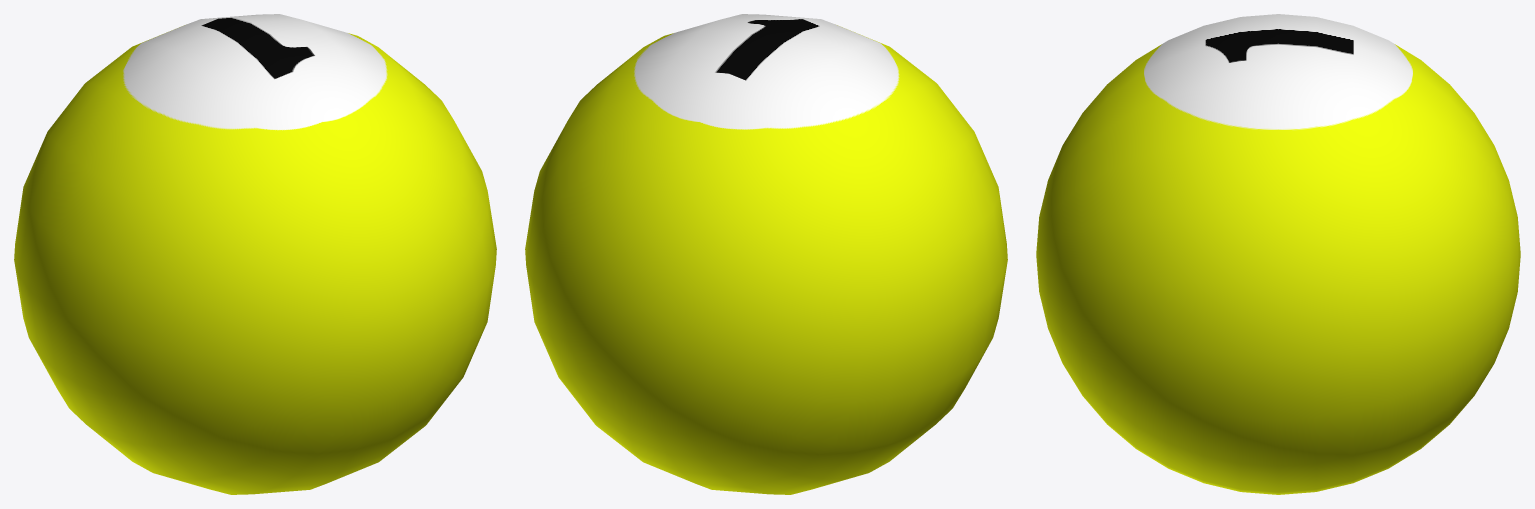
The model's file is ball1.fbx.
The picture shows the model from 3 angles, left to right: view 1: azimuth 30°, elevation 25°; view 2: azimuth 150°, elevation 25°; view 3: azimuth 270°, elevation 25°; orthographic projection.
Visible parts, largest first — view 1: pSphere1; view 2: pSphere1; view 3: pSphere1.
Boxes of the visible parts, x1,y1,x2,y2 form: pSphere1: (14, 14, 496, 494); pSphere1: (525, 14, 1007, 494); pSphere1: (1036, 14, 1520, 494).
Bounding box in the file's own units: 2 × 2 × 2.
